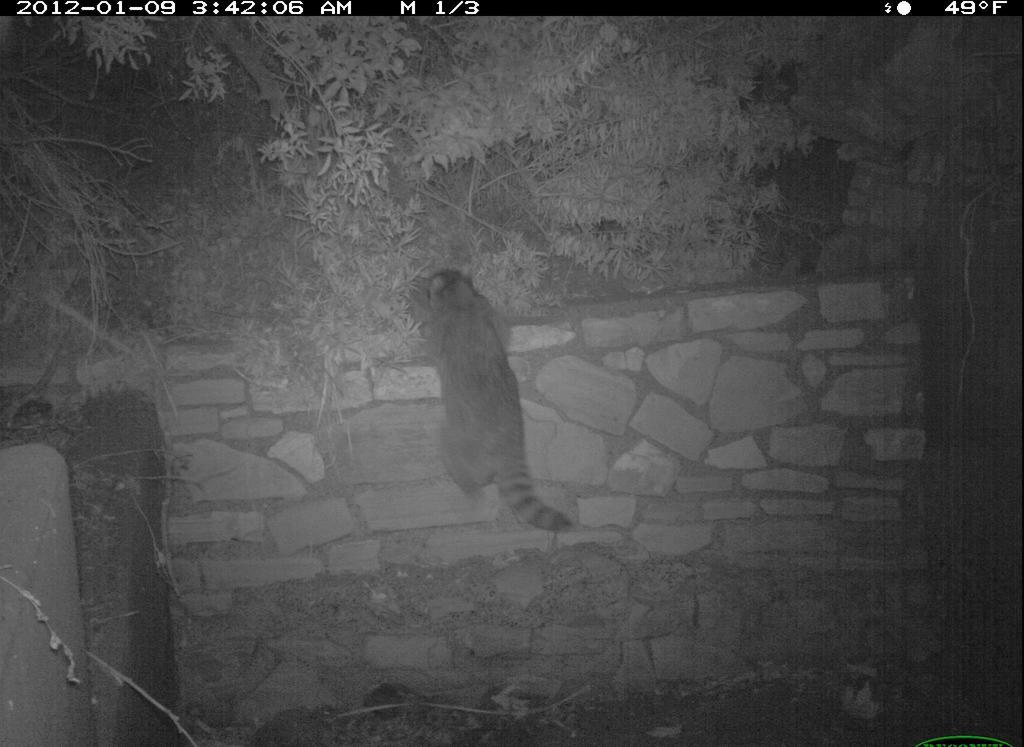raccoon: (397, 267, 580, 536)
